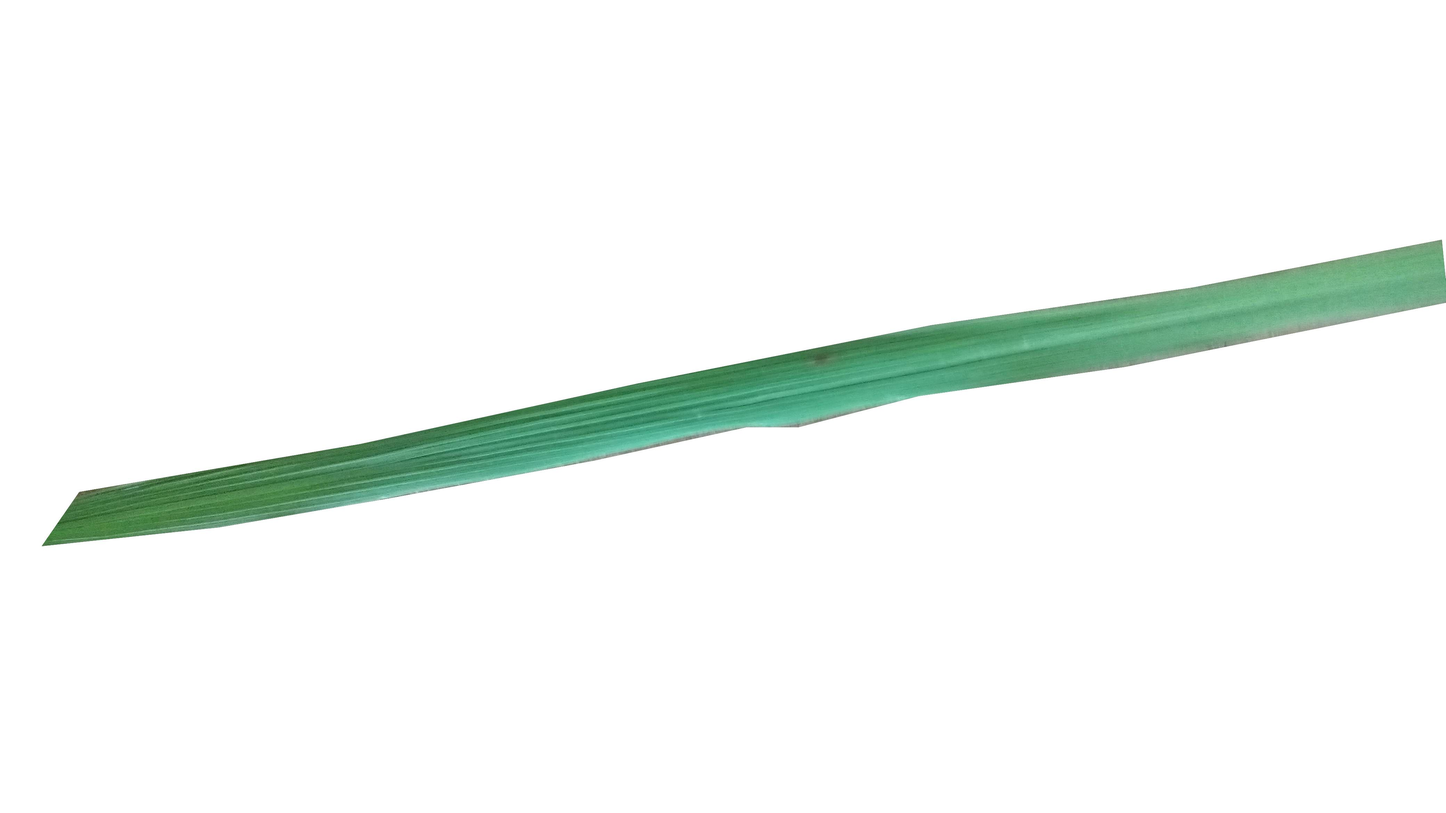Brown spot: (812, 351, 833, 370)
